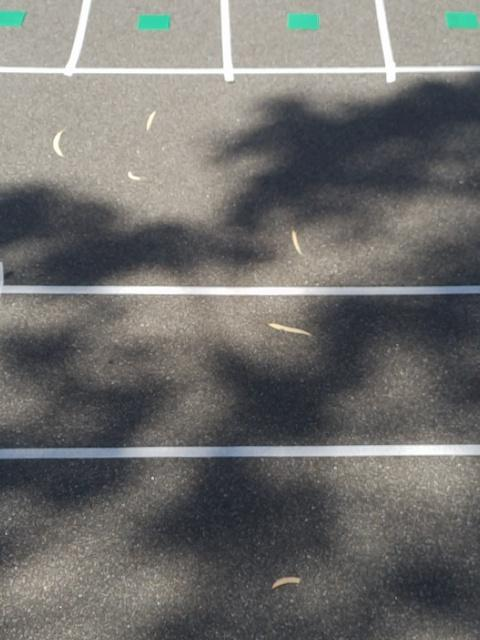weed: (284, 9, 323, 32), (138, 11, 170, 33), (446, 9, 477, 31), (0, 9, 28, 30)
